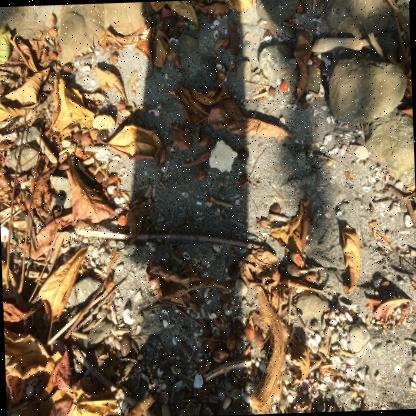Styrofoam piece: (209, 140, 238, 172)
